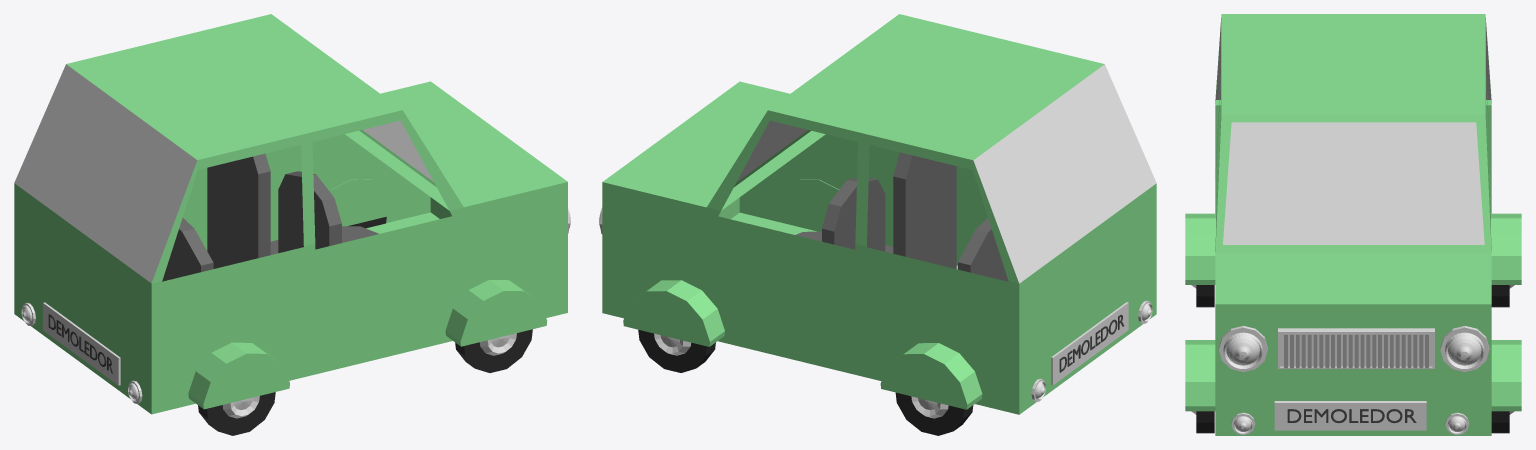
The model's file is carro.fbx.
3 renders of one model, left to right at view 1: azimuth 30°, elevation 25°; view 2: azimuth 150°, elevation 25°; view 3: azimuth 270°, elevation 25°, orthographic.
Visible parts, largest first — view 1: Cube, Cube.005, Cylinder.009, Cylinder.012, Cube.007, Cylinder.003, Cube.004, Cube.009, Cylinder.010, Cylinder.007, Text.001, Cube.006 (+2 smaller); view 2: Cube, Cube.007, Cylinder.003, Cylinder.006, Cube.005, Cylinder.012, Cube.004, Cube.009, Cylinder.004, Cylinder, Text.001; view 3: Cube, Cube.003, Cube.001, Cube.002, Cylinder.006, Cylinder.009, Cylinder.003, Cylinder.012, Sphere.001, Sphere, Text, Cylinder.001 (+5 smaller).
Boxes of the visible parts, box(x1,y1,x2,y2) form: Cube: box(14, 14, 567, 414); Cube.005: box(207, 153, 270, 268); Cylinder.009: box(188, 342, 289, 409); Cylinder.012: box(445, 280, 547, 346); Cube.007: box(278, 171, 341, 253); Cylinder.003: box(329, 179, 395, 226); Cube.004: box(43, 302, 120, 385); Cube.009: box(162, 218, 213, 281); Cylinder.010: box(455, 329, 532, 372); Cylinder.007: box(198, 392, 275, 435); Text.001: box(48, 313, 113, 373); Cube.006: box(270, 226, 378, 254); Cube: box(602, 14, 1156, 414); Cube.007: box(893, 152, 956, 268); Cylinder.003: box(623, 280, 724, 346); Cylinder.006: box(880, 343, 982, 409); Cube.005: box(822, 177, 885, 251); Cylinder.012: box(775, 179, 838, 225); Cube.004: box(1051, 302, 1128, 385); Cube.009: box(958, 218, 1008, 281); Cylinder.004: box(895, 392, 973, 435); Cylinder: box(638, 329, 715, 372); Text.001: box(1059, 314, 1124, 372); Cube: box(1215, 14, 1491, 435); Cube.003: box(1284, 333, 1428, 368); Cube.001: box(1274, 401, 1426, 430); Cube.002: box(1278, 328, 1434, 368); Cylinder.006: box(1491, 213, 1521, 284); Cylinder.009: box(1185, 213, 1215, 284); Cylinder.003: box(1491, 340, 1521, 411); Cylinder.012: box(1185, 340, 1215, 411); Sphere.001: box(1445, 332, 1484, 368); Sphere: box(1223, 332, 1262, 368); Text: box(1287, 409, 1416, 423); Cylinder.001: box(1218, 326, 1267, 371).
Bounding box in the file's own units: 557 × 331 × 368.
